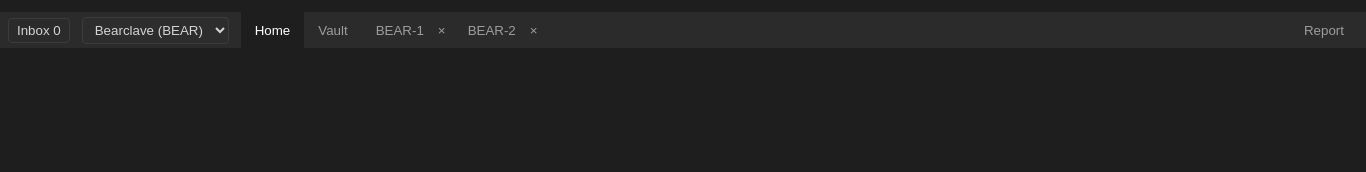
TabBar › clicking Vault again clears the failure
Click the tab "Vault": (333, 30) [304,12,362,48]
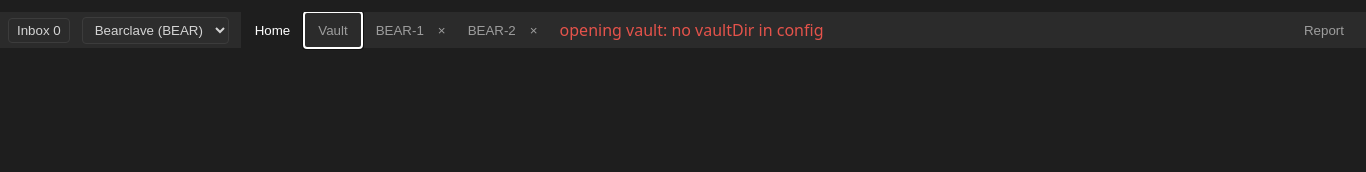
Check: the message "opening vault: no vaultDir in config" is shown, box [546,19,838,41]
Click the tab "Vault": (333, 30) [304,12,362,48]
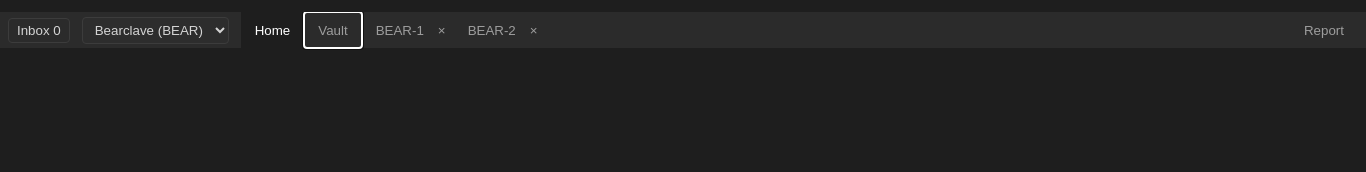
Check: the message "opening vault: no vaultDir in config" is gone
